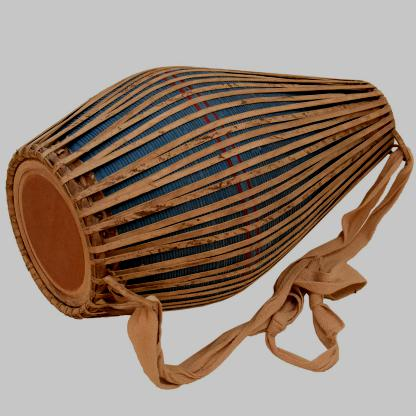Mridangam: (4, 49, 416, 332)
